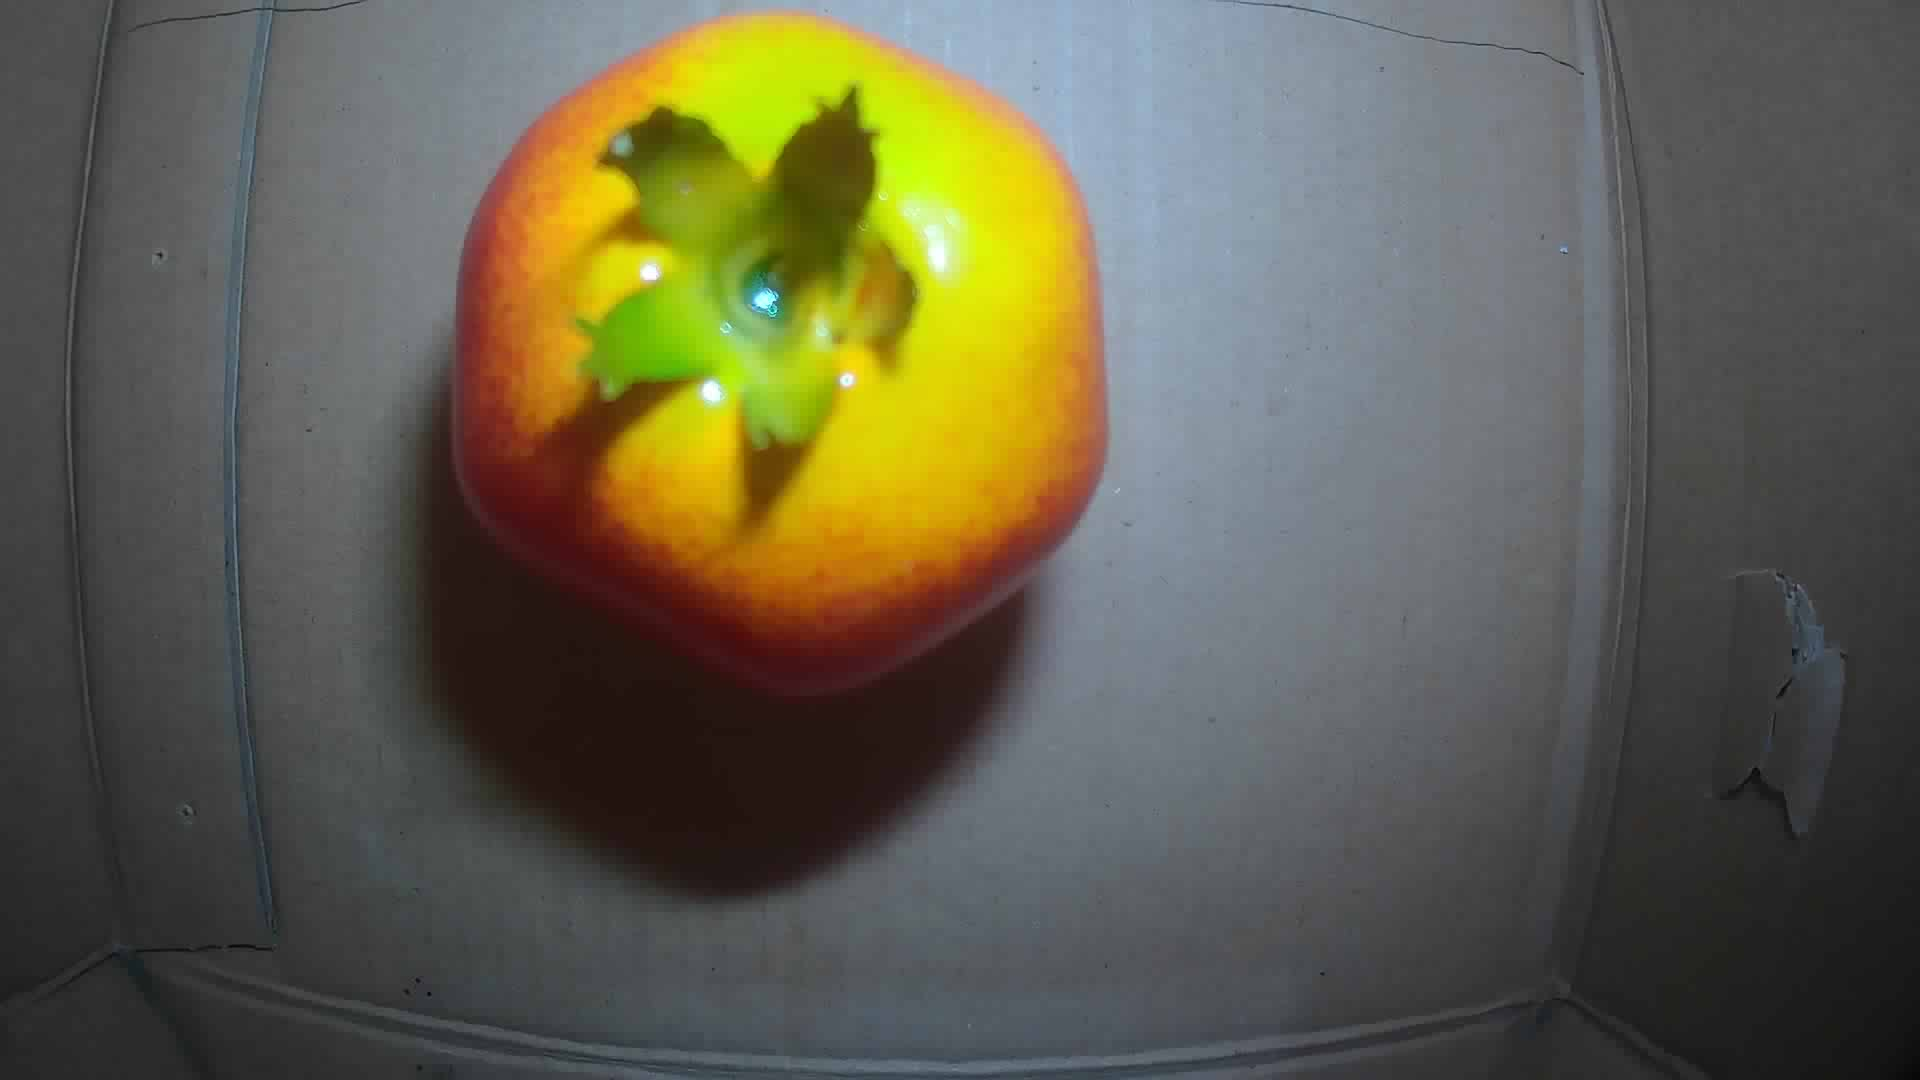pomegranate: (456, 7, 1112, 702)
